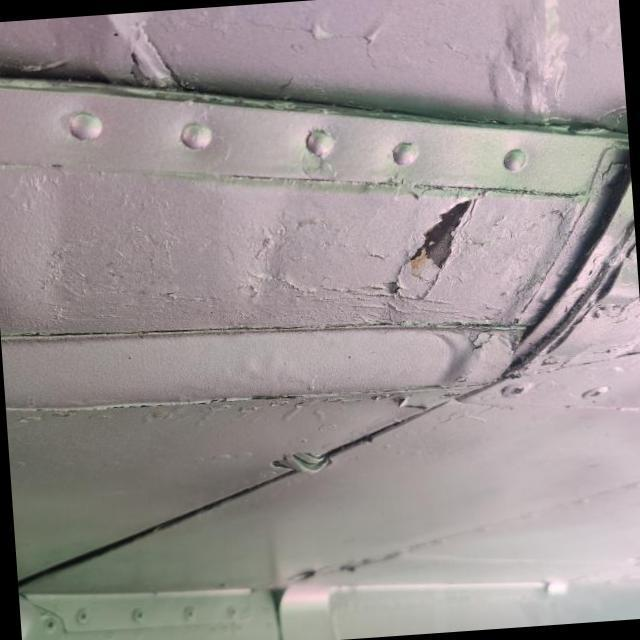Rupture: (391, 184, 496, 278)
